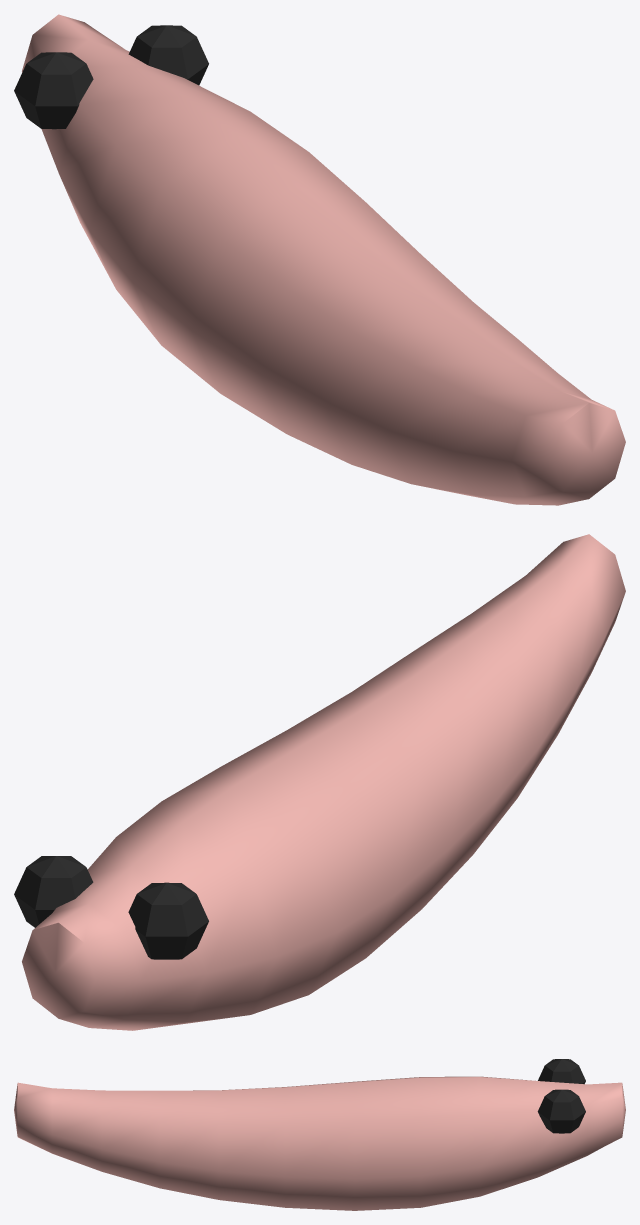
File: fauna_prey_krill.glb
The picture shows the model from 3 angles, top to bottom: view 1: azimuth 30°, elevation 25°; view 2: azimuth 150°, elevation 25°; view 3: azimuth 270°, elevation 25°; orthographic projection. The views are drawn at different scales.
Parts seen in each view (by area): view 1: krill; view 2: krill; view 3: krill.
Boxes of the visible parts, <box> form: krill: <box>14,14,625,505</box>; krill: <box>14,534,625,1030</box>; krill: <box>14,1059,625,1210</box>.
Bounding box in the file's own units: 0.00447 × 0.00483 × 0.0202.
